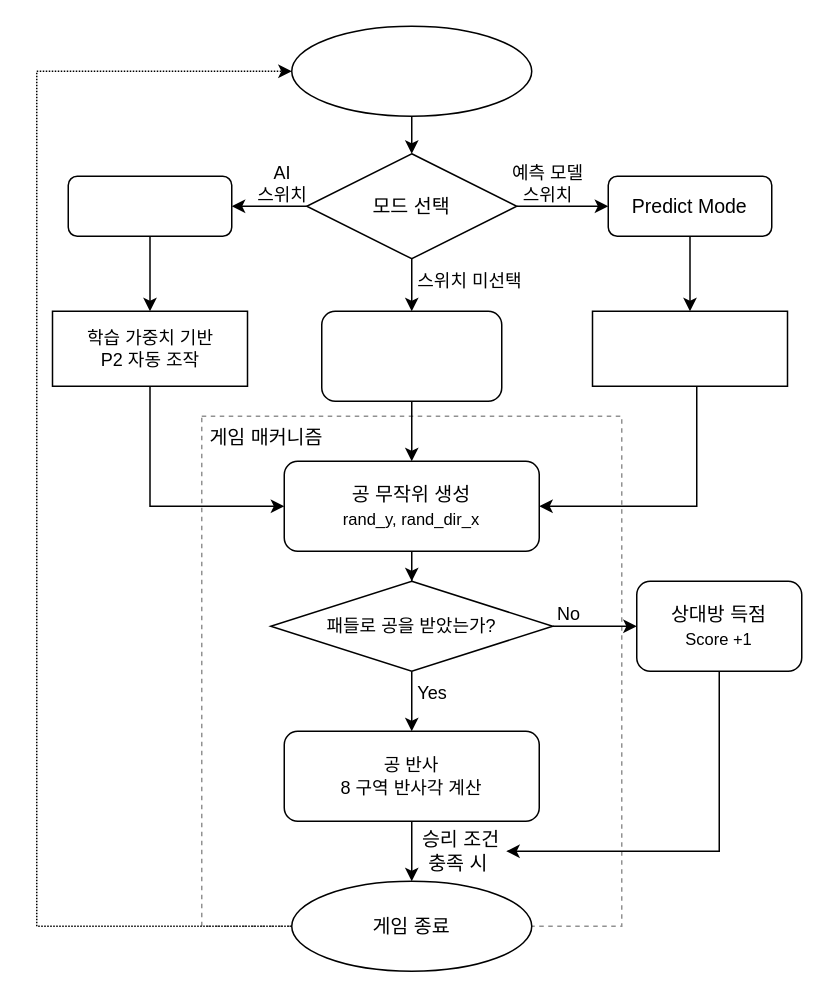
Image size: 828x998. Some labels were removed from this diagram. Each missing label, with the centre of its shape:
1:1 Mode 두 플레이어 조작: (x=411, y=355)
AI Mode: (x=149, y=205)
게임 시작 스위치 On: (x=411, y=70)
공 도착 위치 계산 P2 패들 자동 이동: (x=689, y=348)
